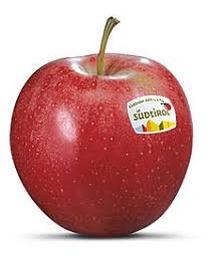apple: (9, 18, 193, 238)
